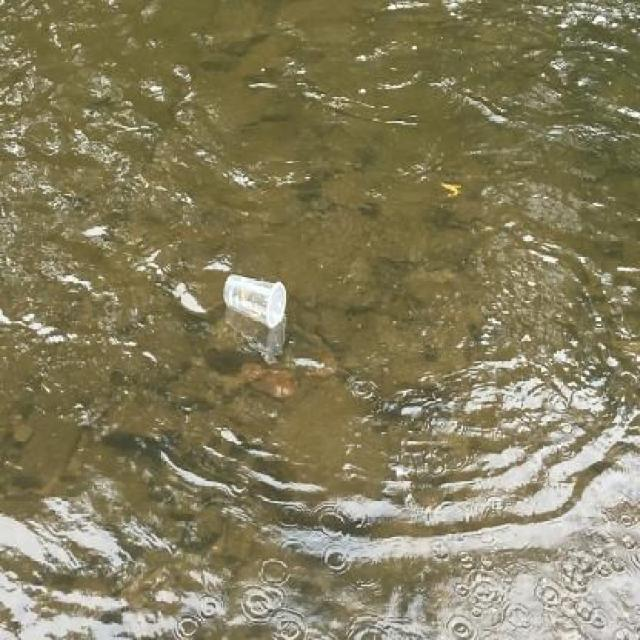Plastic: (216, 270, 292, 336)
